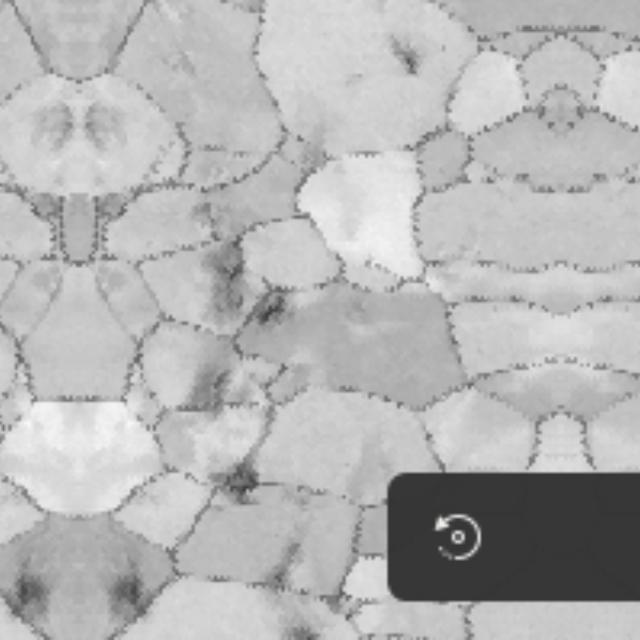good_void: (196, 200, 254, 322), (10, 88, 80, 171), (80, 88, 149, 171), (180, 350, 241, 434), (196, 449, 267, 517), (255, 533, 319, 597), (384, 21, 429, 95), (100, 563, 155, 622), (4, 563, 59, 622), (253, 286, 296, 345), (273, 603, 324, 640), (320, 596, 345, 619)
